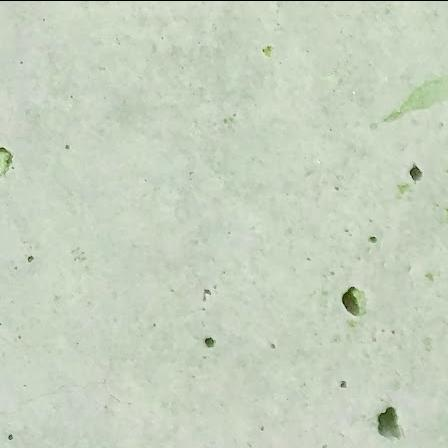spalling: (370, 402, 410, 448), (336, 281, 376, 320), (404, 159, 428, 185)
